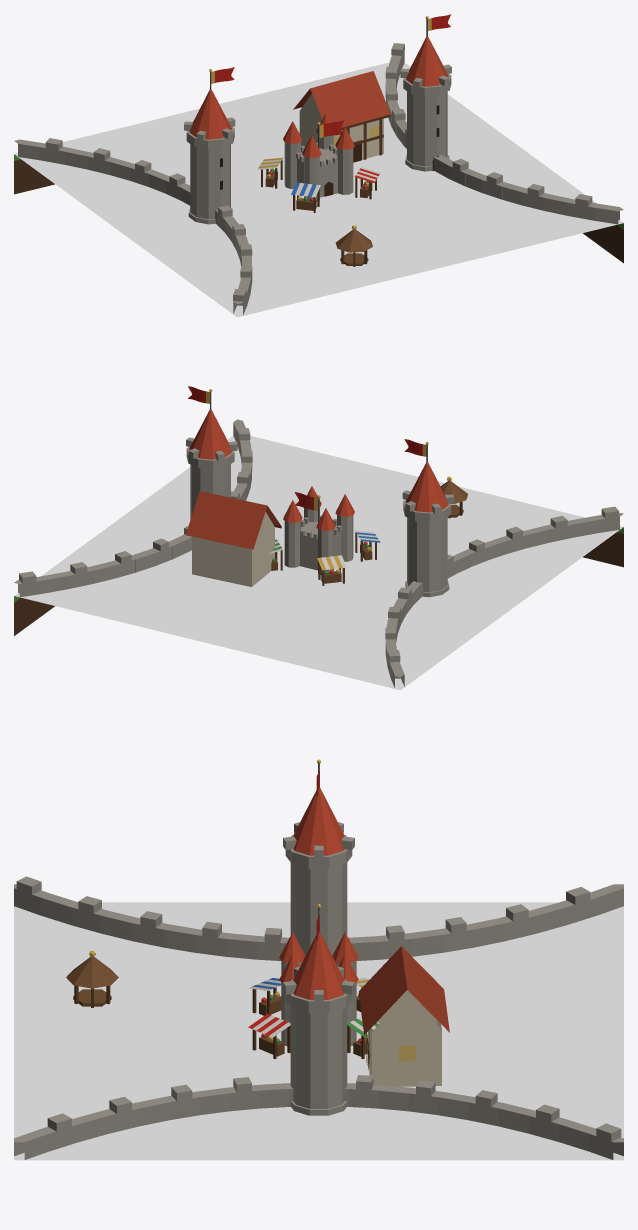
Rendered from xcrcf.glb.
3 renders of one model, top to bottom at view 1: azimuth 30°, elevation 25°; view 2: azimuth 150°, elevation 25°; view 3: azimuth 270°, elevation 25°, orthographic. The views are drawn at different scales.
Visible parts, largest first — view 1: xcrcf; view 2: xcrcf; view 3: xcrcf.
Boxes of the visible parts, box(x1,y1,x2,y2) form: xcrcf: box(14, 14, 623, 317); xcrcf: box(14, 386, 623, 690); xcrcf: box(14, 759, 623, 1160).
Size of the model in its own units: 2 by 0.9222 by 2.
